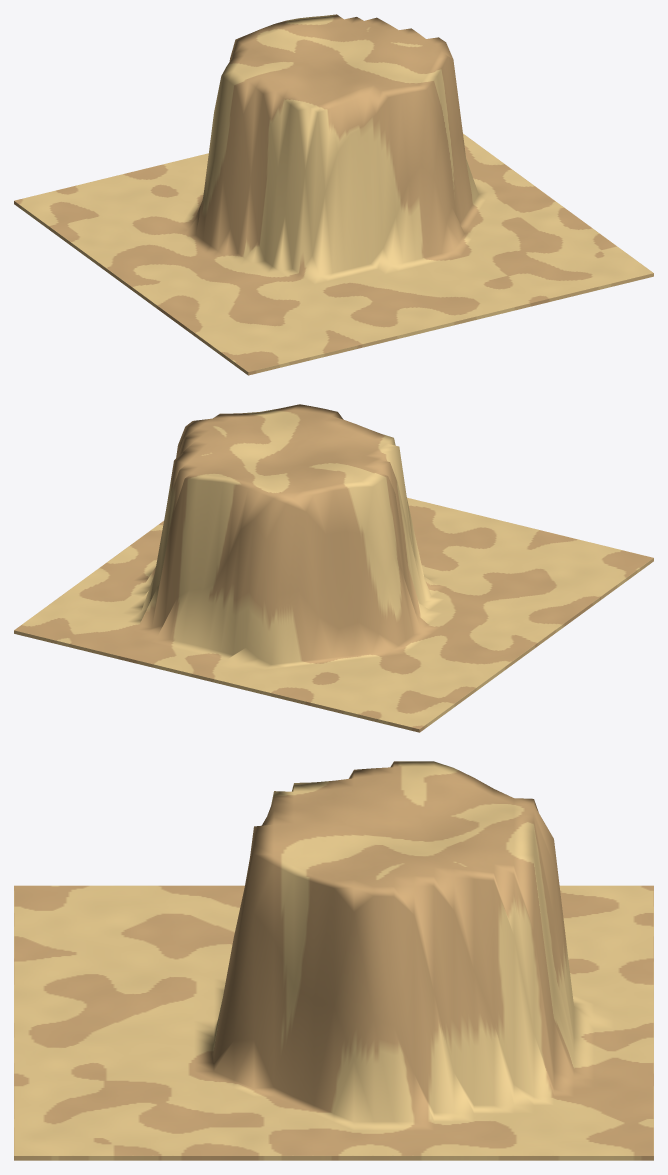
File: Desert_Mountains_04.obj
The picture shows the model from 3 angles, top to bottom: view 1: azimuth 30°, elevation 25°; view 2: azimuth 150°, elevation 25°; view 3: azimuth 270°, elevation 25°; orthographic projection. The views are drawn at different scales.
Size of the model in its own units: 10 by 3.78 by 10.
Materials: 1 (1 with a texture image).
